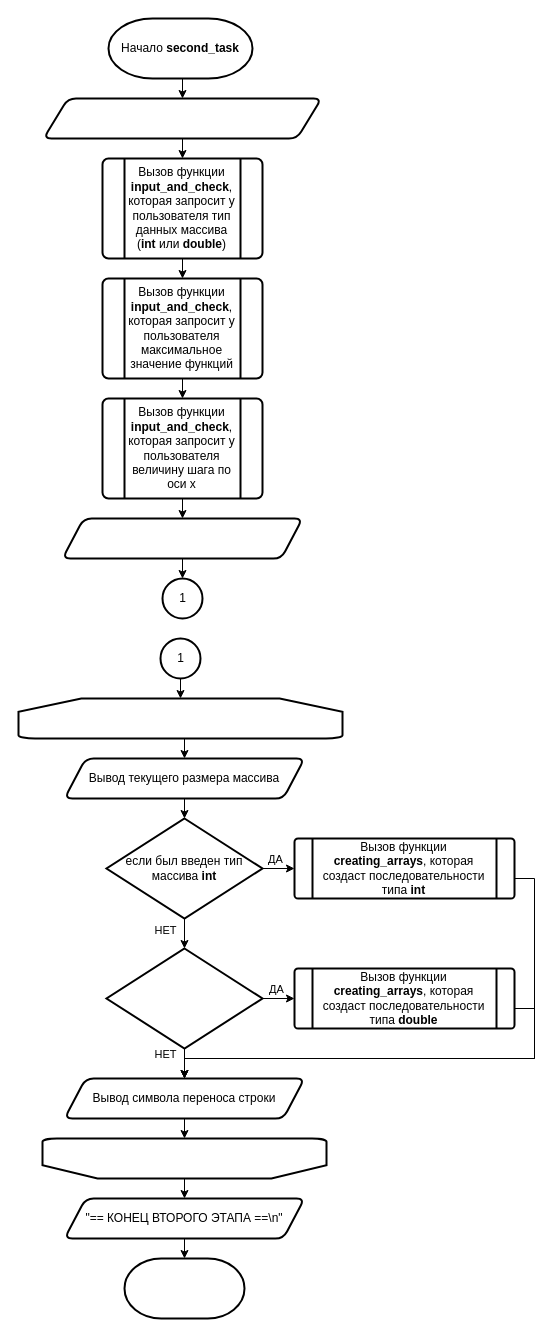
This 560x1336 diagram has some shape labels left out. The shapes that lost their labels are listed below. From the top down, each one's centre as x and y in pixels, then its label:
point 182,118: "========= ВТОРОЙ ЭТАП =========\n"
point 182,538: Вывод шапки таблицы, в которой будет время выполнения функций
point 180,718: Цикл А: size = 500000; size <= 5000000; size +=500000
point 184,998: если был введен тип массива double
point 184,1158: Конец цикла А
point 184,1288: Конец second_task
